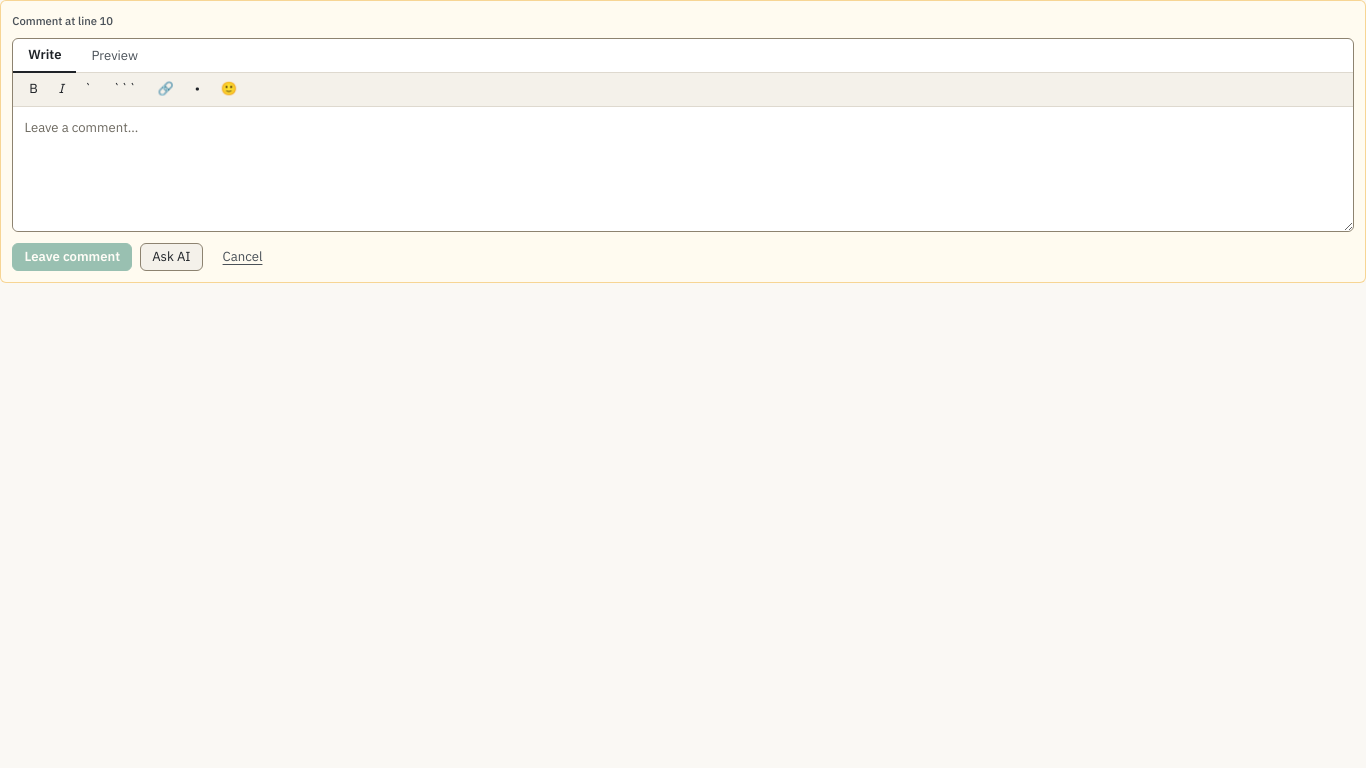
Test: DraftThread — action row (Leave comment / Ask AI / Cancel buttons) › the question comes from the panel input, NOT the comment composer
In the text box named "comment body": (683, 169) 13,106 -> 1353,231, type "My review comment"
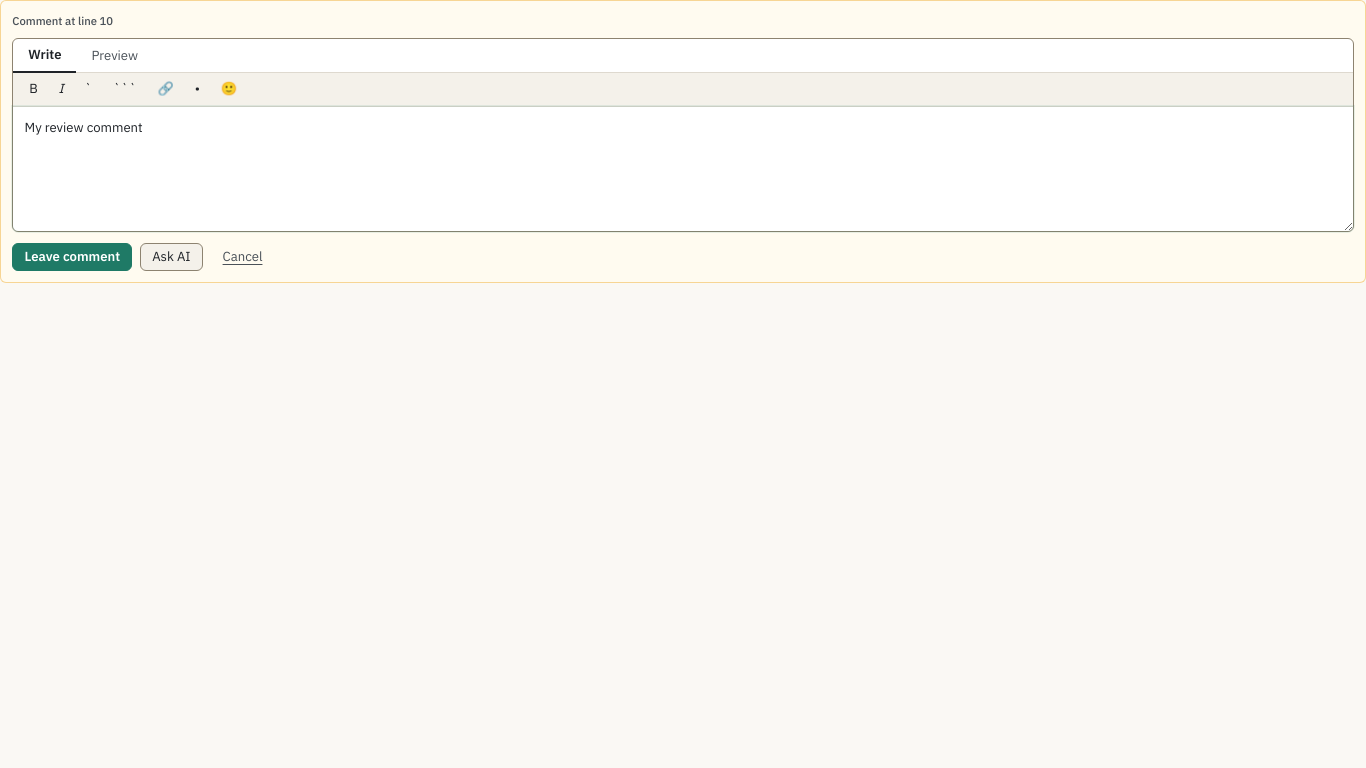
Click the button "Ask AI": click(171, 257) 140,243 -> 203,271
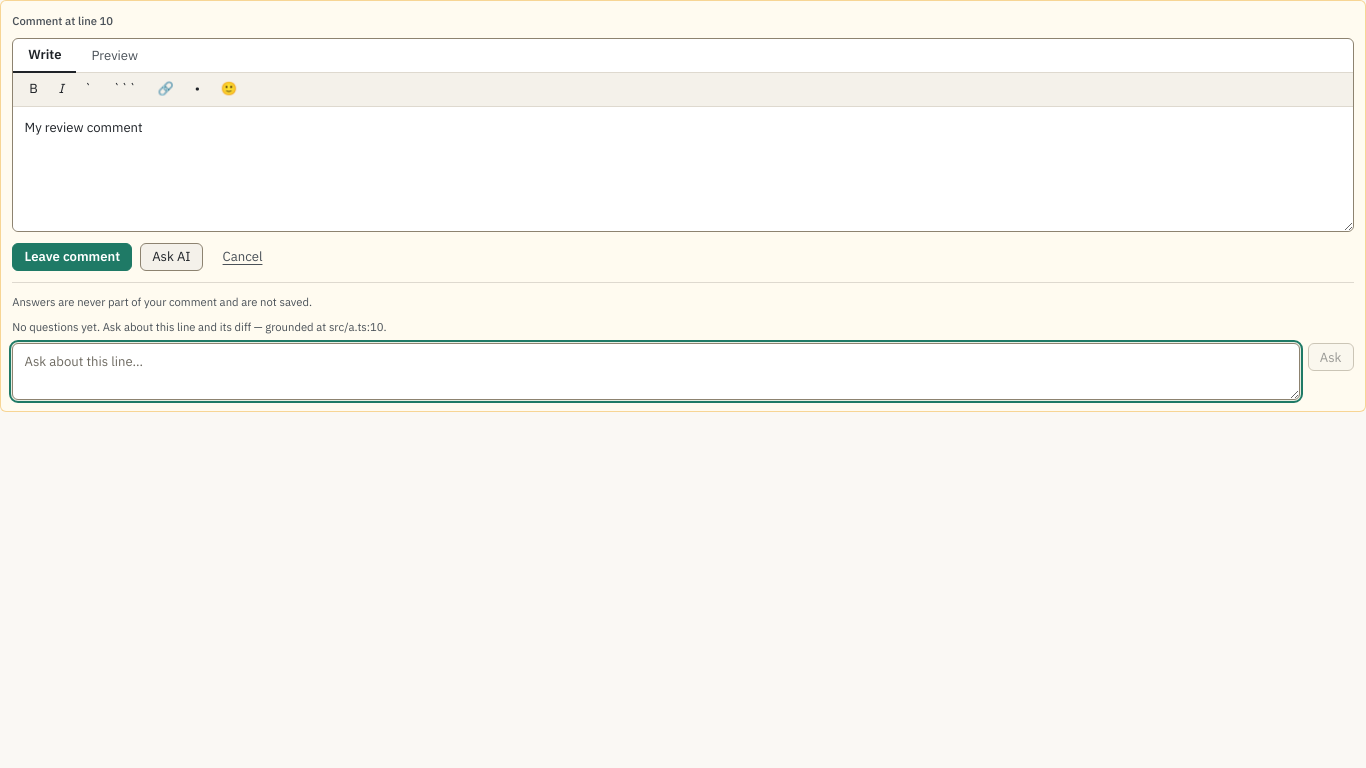
In the text box with test id "ask-question-input": (656, 371) 12,343 -> 1300,400, type "Why is this here?"
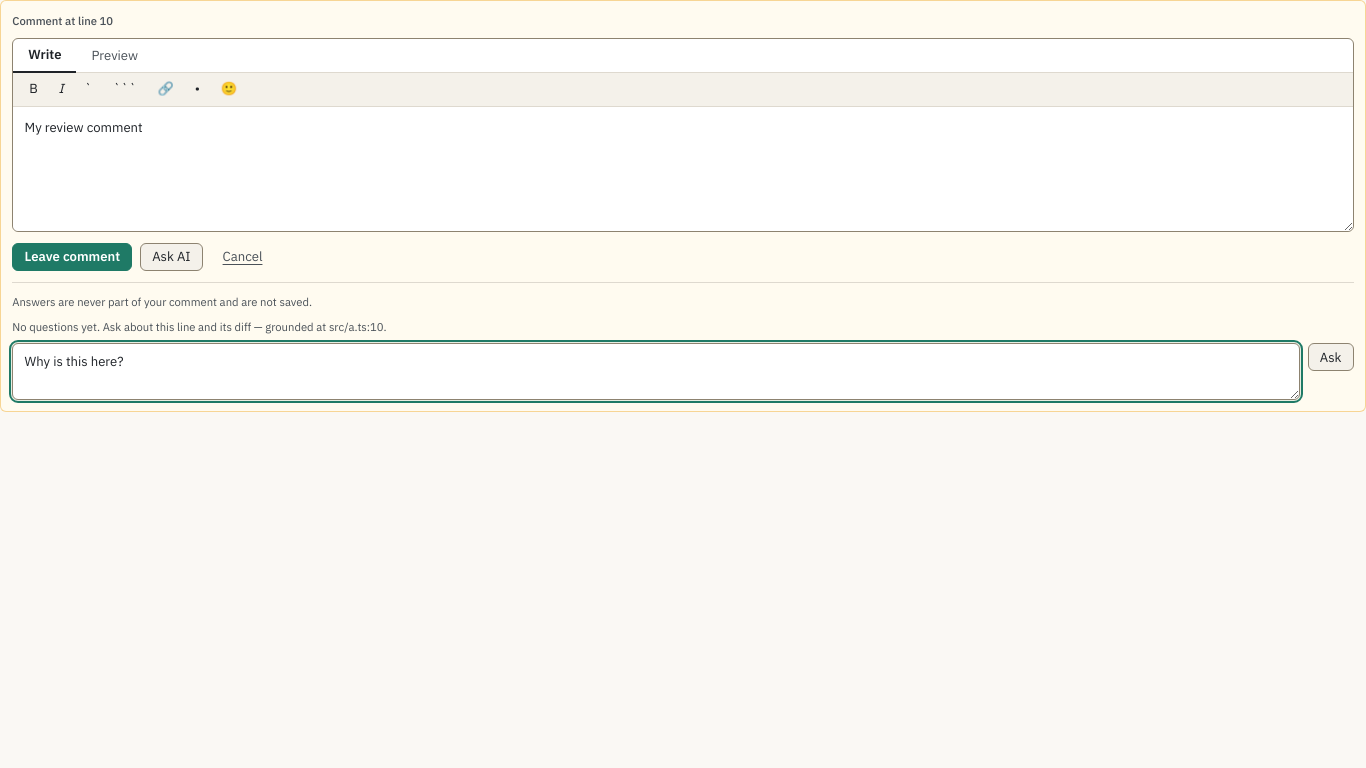
Click the button with test id "ask-send": click(1331, 357) 1308,343 -> 1354,371
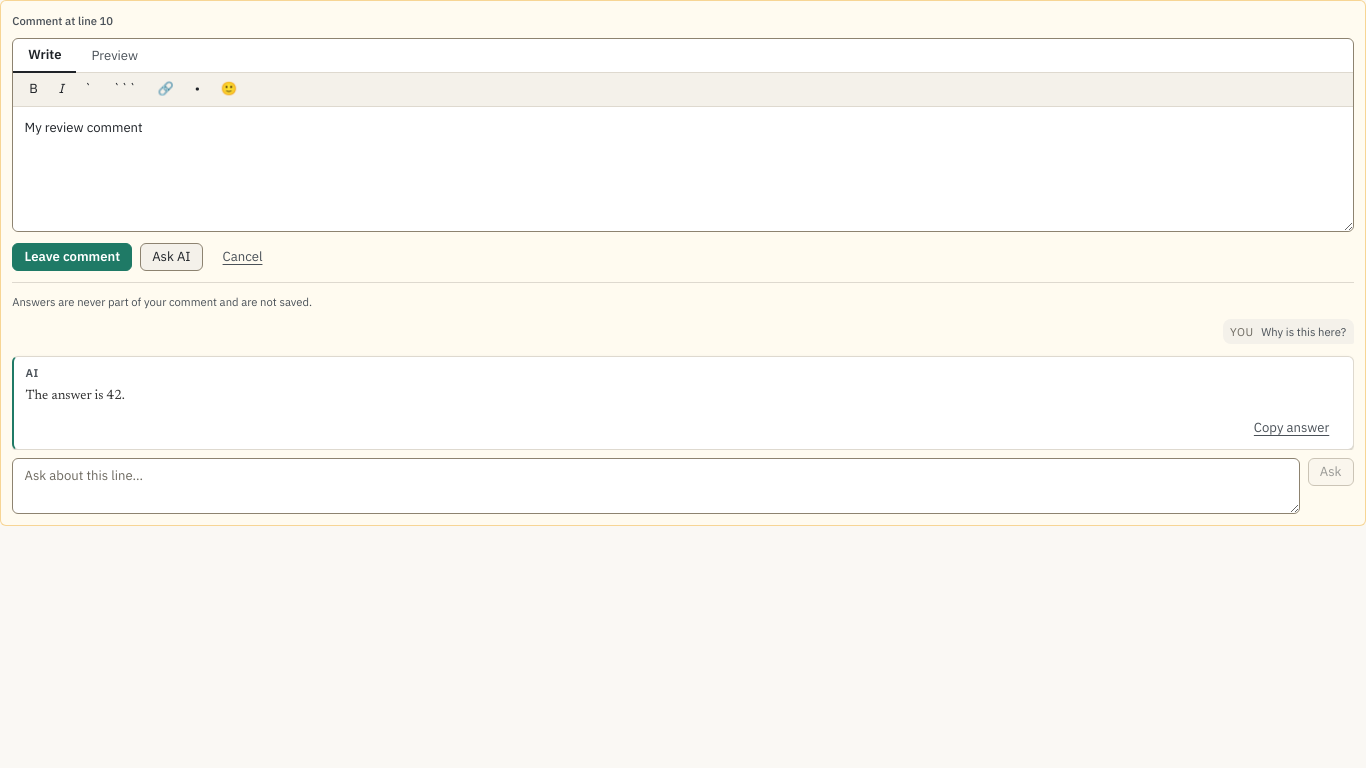
Check: the text "Why is this here?" is shown, box 1261,323 -> 1346,341
